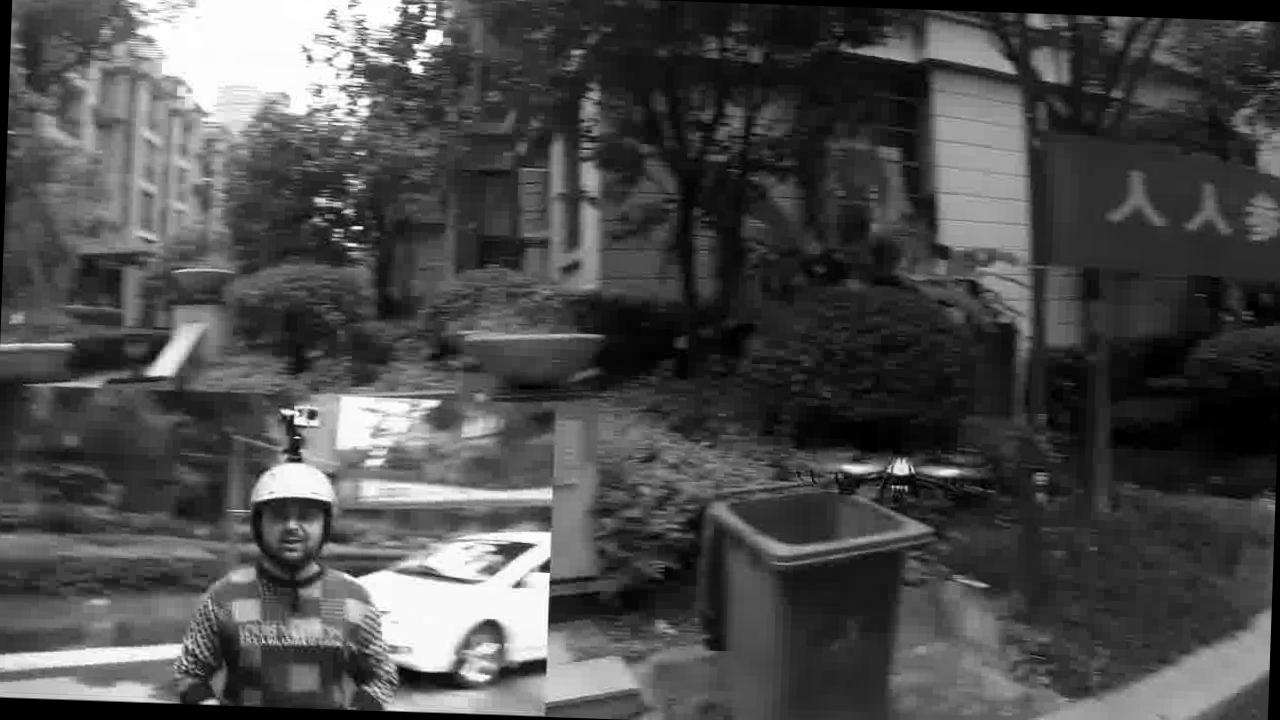drone: (797, 413, 1007, 520)
